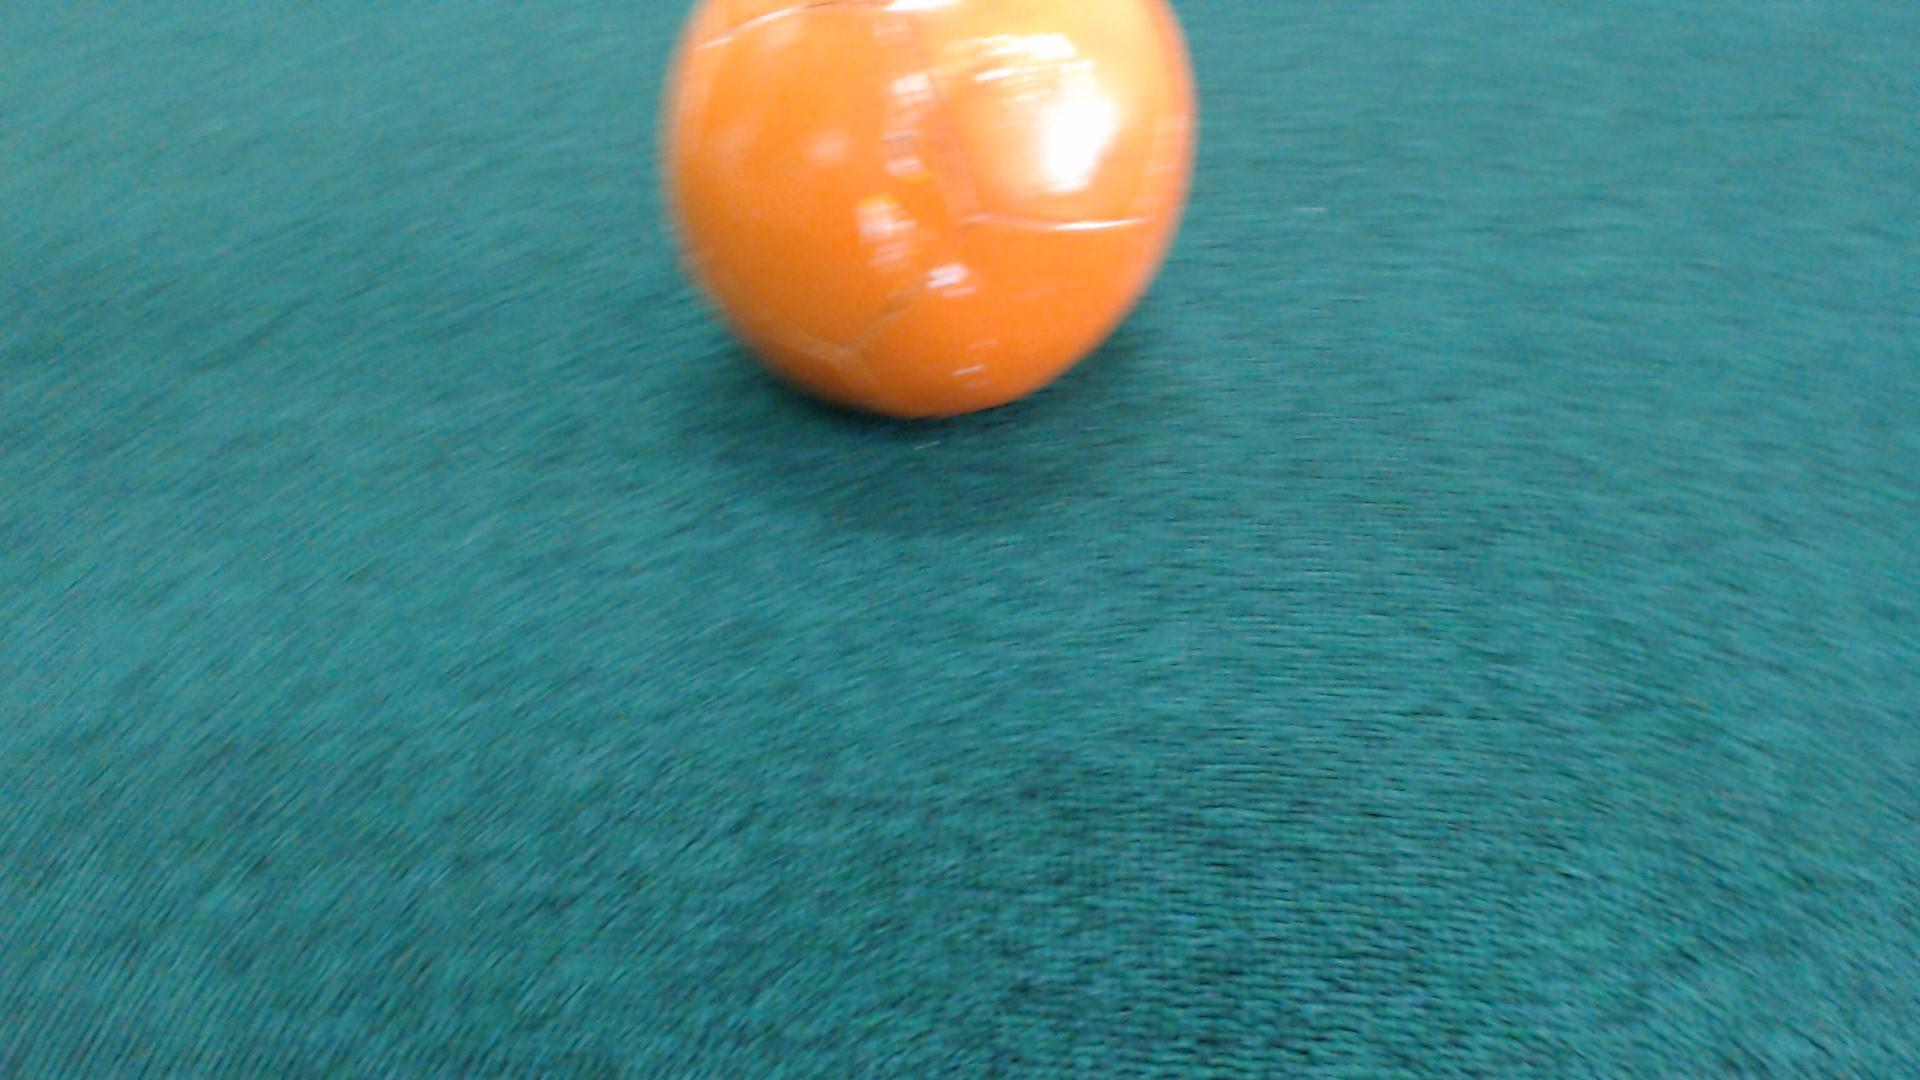bola: (618, 0, 1236, 464)
